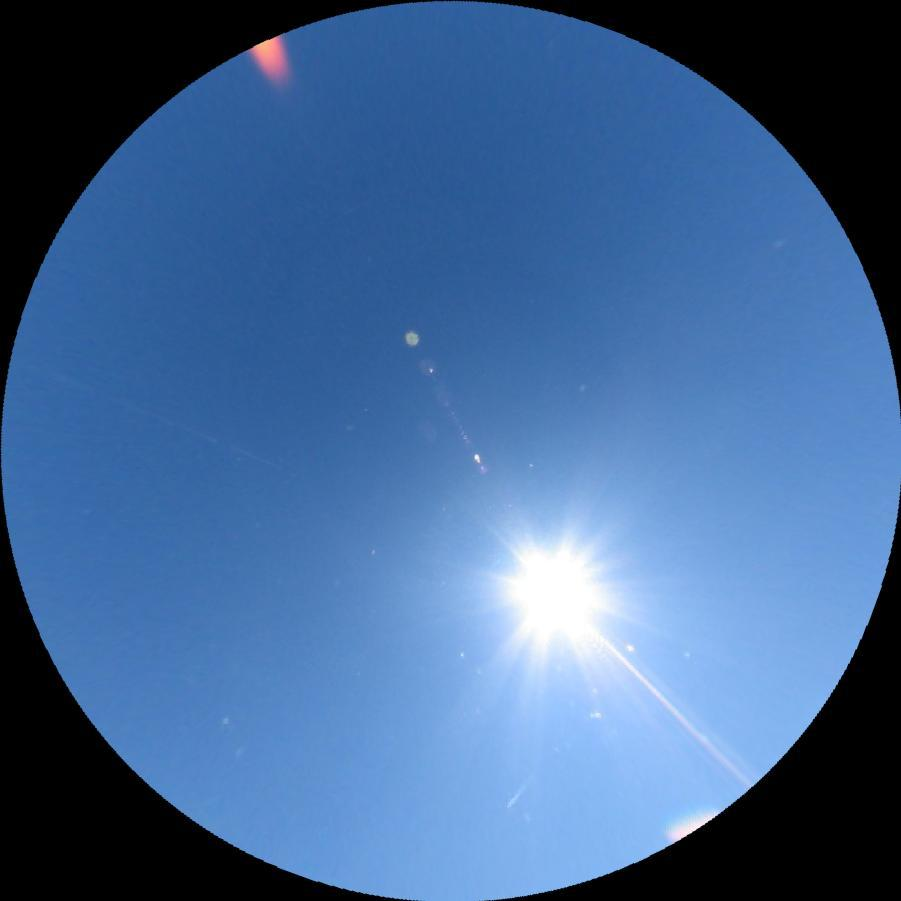contrail young: (501, 769, 535, 811)
parasite: (592, 629, 752, 787)
sun: (504, 535, 605, 649)
